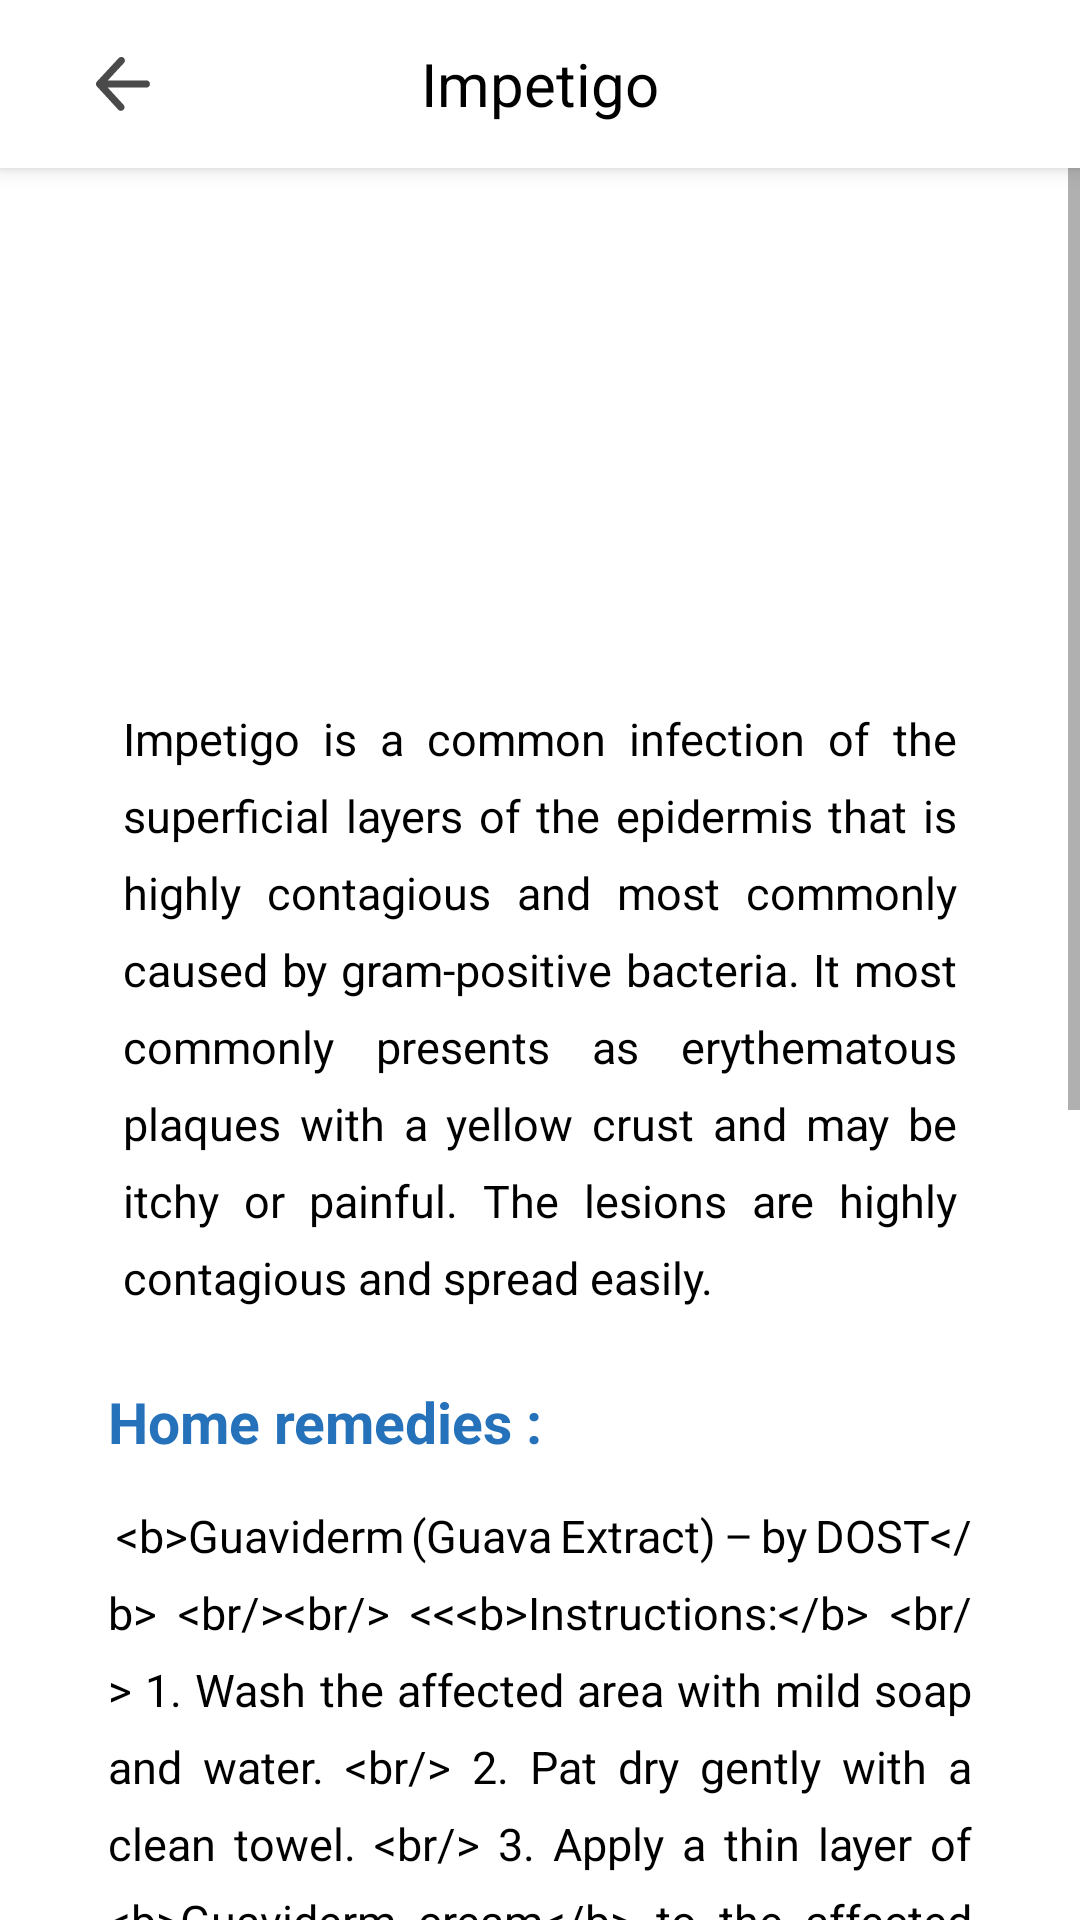

Where to tap for icons on this 1080w x 1920h app screen, as (x,y):
Back: (123,84)
